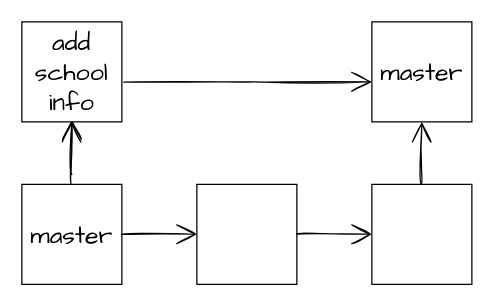
Some shapes in this 494 by 306 pixel diagram are drawn without their labels. The centre of each missing label's shape, as x and y in pixels:
"add birthday info" belongs at point (421, 233).
"add study space" belongs at point (246, 233).
